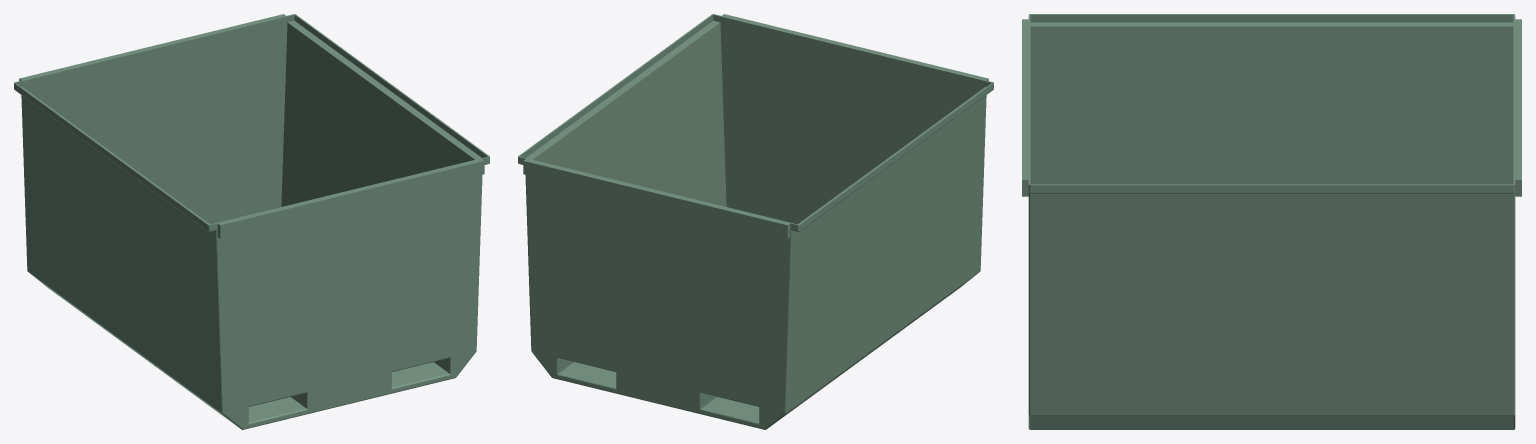
File: VillingerMulde3D.dae
3 views of the same model, side by side, from view 1: azimuth 30°, elevation 25°; view 2: azimuth 150°, elevation 25°; view 3: azimuth 270°, elevation 25° (orthographic). The views are drawn at different scales.
Visible parts, largest first — view 1: node0; view 2: node0; view 3: node0.
Part boxes in pixels (x1,y1,x2,y2): node0: [14, 14, 489, 429]; node0: [518, 14, 993, 429]; node0: [1022, 14, 1521, 429].
Size of the model in its own units: 1.99 by 2.46 by 1.44.
